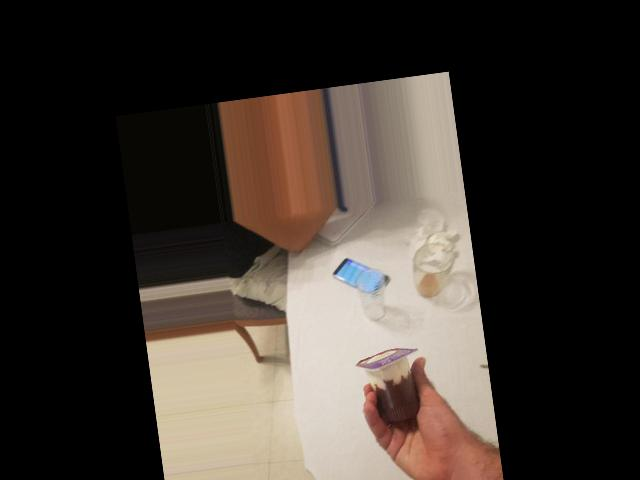milky: (247, 327, 344, 398)
